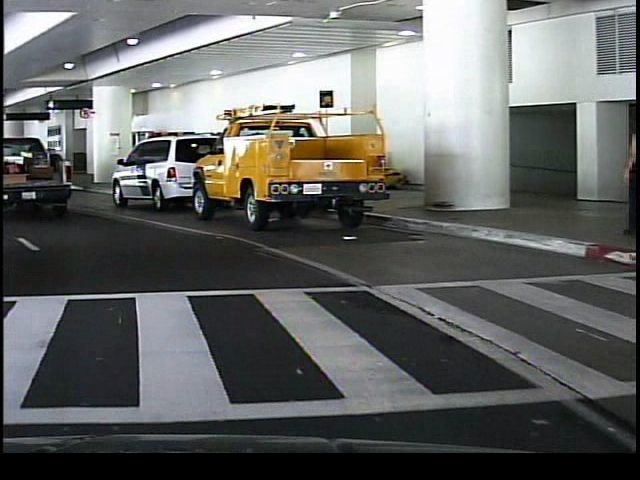person: (611, 109, 640, 238)
